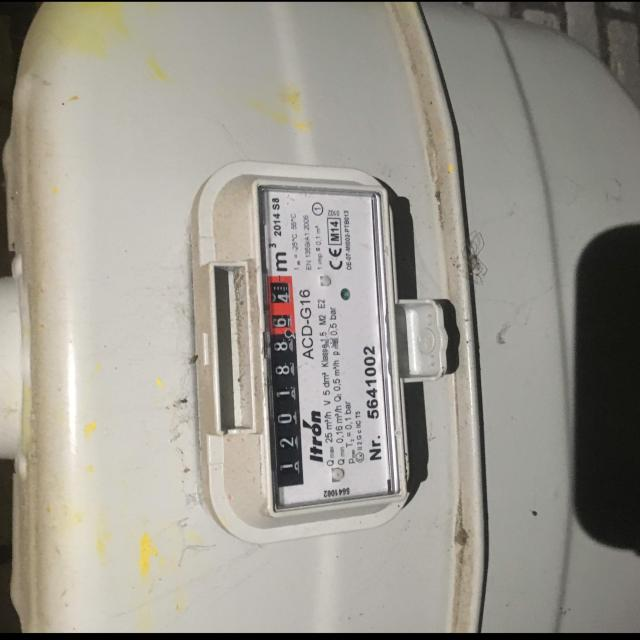gaz_meter: (259, 181, 407, 515)
indication: (268, 274, 304, 484)
